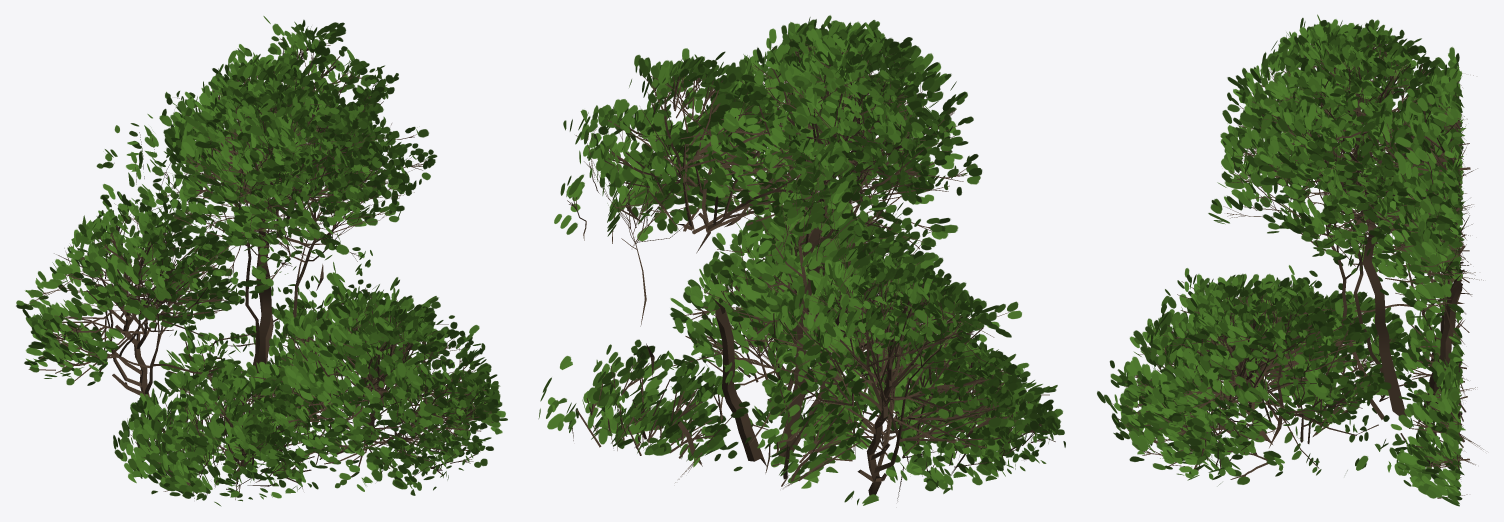
3 renders of one model, left to right at view 1: azimuth 30°, elevation 25°; view 2: azimuth 150°, elevation 25°; view 3: azimuth 270°, elevation 25°, orthographic. The views are drawn at different scales.
Parts seen in each view (by area): view 1: oak 01.001_trunk_Mat.001_0.407; view 2: oak 01.001_trunk_Mat.001_0.407; view 3: oak 01.001_trunk_Mat.001_0.407.
Part boxes in pixels (x1=…): oak 01.001_trunk_Mat.001_0.407: x1=16, y1=16, x2=507, y2=506; oak 01.001_trunk_Mat.001_0.407: x1=538, y1=15, x2=1065, y2=505; oak 01.001_trunk_Mat.001_0.407: x1=1097, y1=14, x2=1483, y2=506.
Bounding box in the file's own units: 5.84 × 5.19 × 4.56.
Materials: 2 (1 with a texture image).
